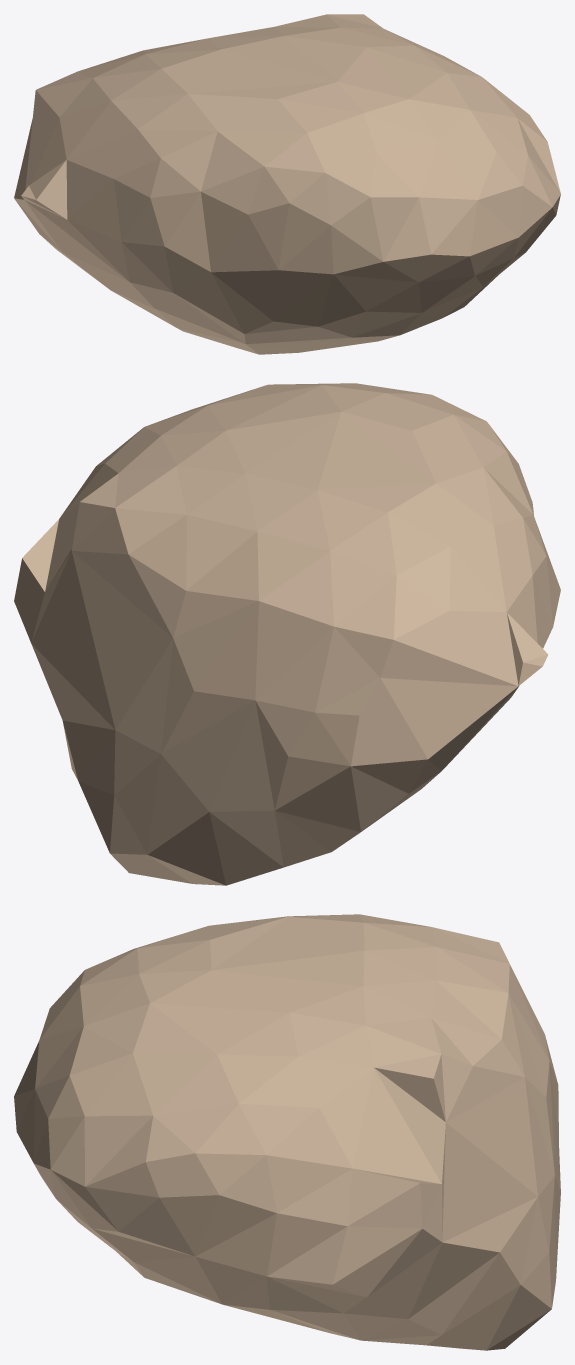
File: Model_10273_LH__Anterior_pulvinar_(APul).obj
The picture shows the model from 3 angles, top to bottom: view 1: azimuth 30°, elevation 25°; view 2: azimuth 150°, elevation 25°; view 3: azimuth 270°, elevation 25°; orthographic projection. The views are drawn at different scales.
Size of the model in its own units: 0.7341 by 0.4909 by 0.6805.
